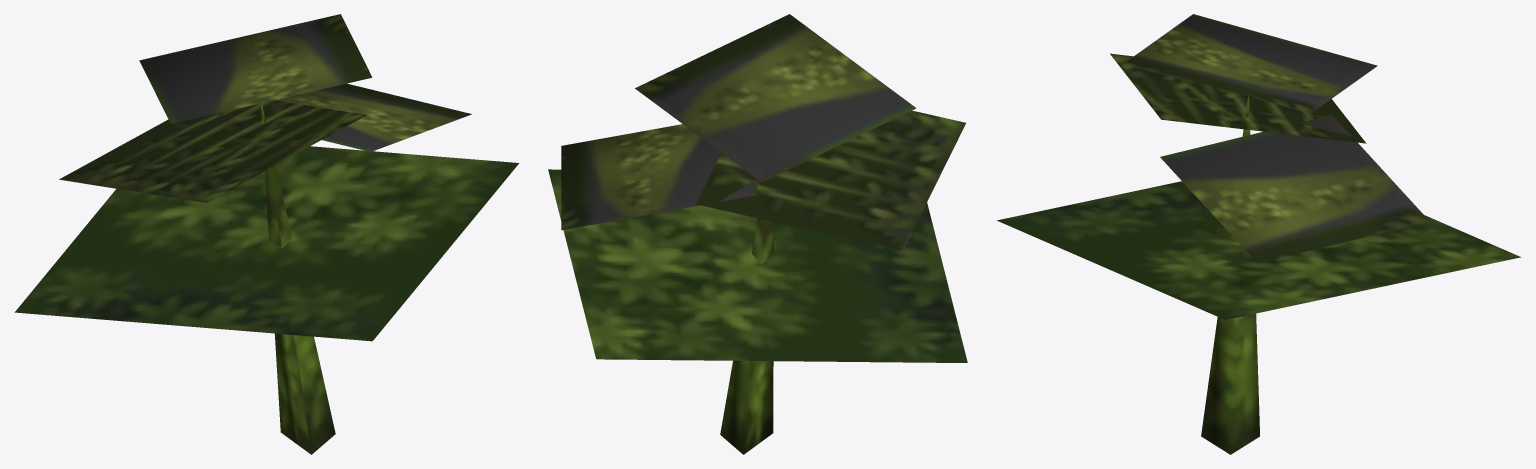
Rendered from dec_Tree_UltraLOW_04_17661.glb.
The picture shows the model from 3 angles, left to right: view 1: azimuth 30°, elevation 25°; view 2: azimuth 150°, elevation 25°; view 3: azimuth 270°, elevation 25°; orthographic projection. The views are drawn at different scales.
Parts seen in each view (by area): view 1: Tree_UltraLOW_04_mesh; view 2: Tree_UltraLOW_04_mesh; view 3: Tree_UltraLOW_04_mesh.
Boxes of the visible parts, left/top/right/bottom form: Tree_UltraLOW_04_mesh: left=14, top=14, right=519, bottom=454; Tree_UltraLOW_04_mesh: left=548, top=14, right=967, bottom=454; Tree_UltraLOW_04_mesh: left=996, top=14, right=1520, bottom=454.
Size of the model in its own units: 1.61 by 1.31 by 1.62.
Materials: 1 (1 with a texture image).
